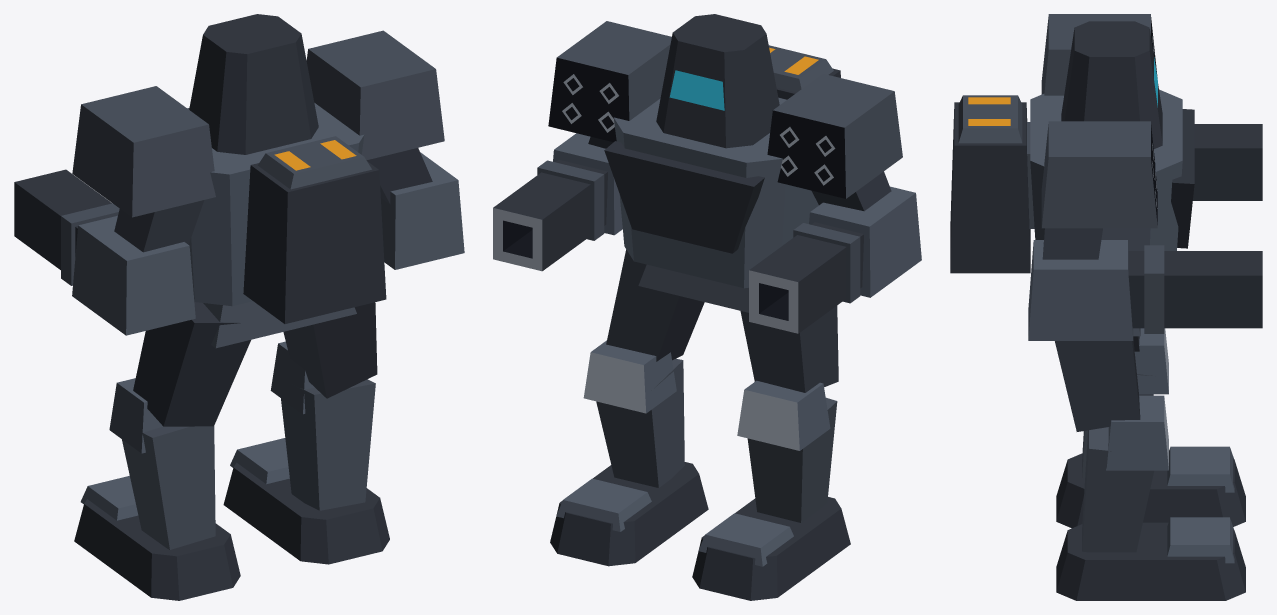
The model's file is SM_Goliath_LOD0.fbx.
3 renders of one model, left to right at view 1: azimuth 30°, elevation 25°; view 2: azimuth 150°, elevation 25°; view 3: azimuth 270°, elevation 25°, orthographic. The views are drawn at different scales.
Parts seen in each view (by area): view 1: SM_Goliath_LOD0; view 2: SM_Goliath_LOD0; view 3: SM_Goliath_LOD0.
Part boxes in pixels (box(x1,y1,x2,y2)): SM_Goliath_LOD0: box(14, 14, 464, 600); SM_Goliath_LOD0: box(493, 14, 921, 600); SM_Goliath_LOD0: box(950, 14, 1262, 600).
Size of the model in its own units: 3.4 by 5 by 2.8.
